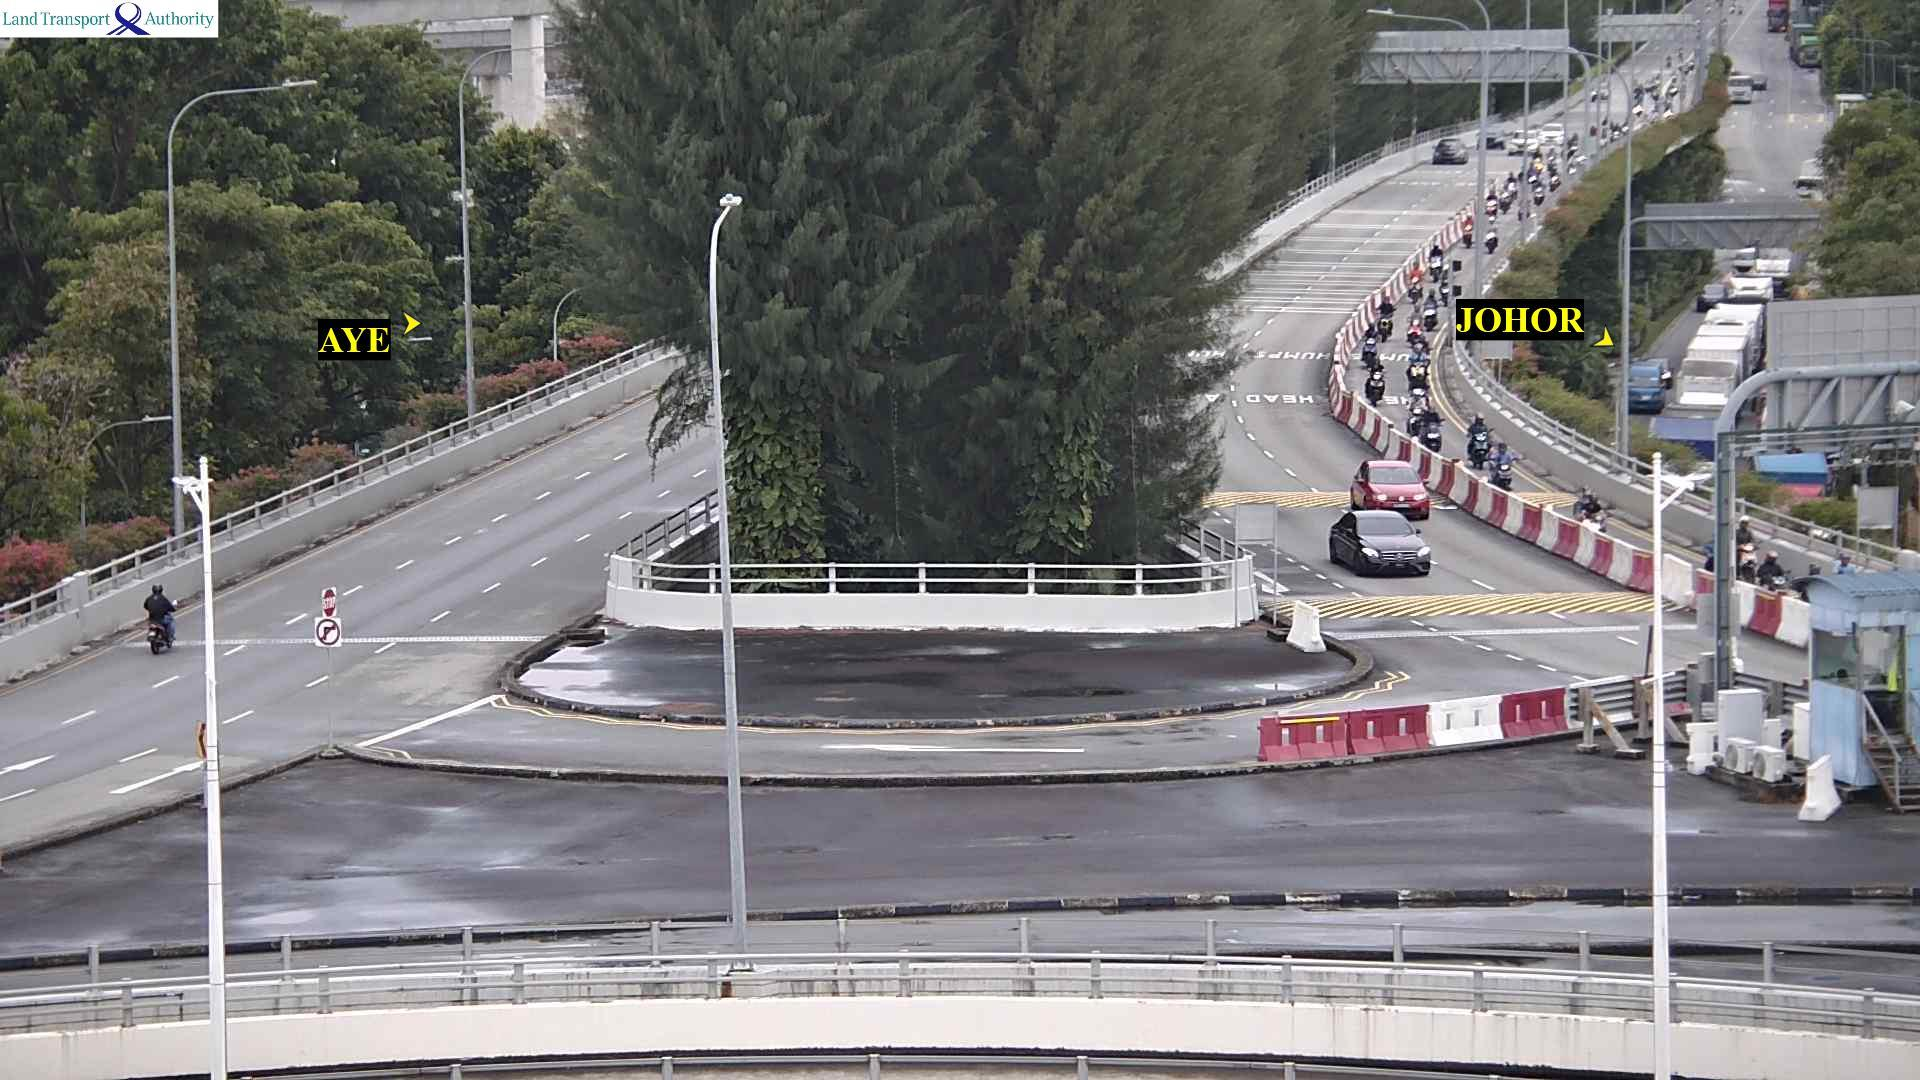vehicle-secondlink-johor: (1328, 511, 1431, 584), (1350, 462, 1447, 517), (1417, 398, 1454, 449), (1479, 443, 1520, 489), (1407, 404, 1441, 449), (1587, 490, 1620, 534), (1753, 556, 1794, 590), (1576, 493, 1610, 533), (1470, 426, 1500, 465), (1408, 346, 1429, 388), (1369, 356, 1384, 402), (1407, 258, 1422, 302), (1379, 295, 1391, 337), (1408, 306, 1422, 340), (1363, 323, 1374, 362), (1425, 289, 1436, 328), (1440, 264, 1450, 305), (1429, 244, 1441, 276), (1486, 218, 1496, 250), (1461, 213, 1470, 247)
vehicle-secondlink-singapore: (135, 586, 175, 647)
